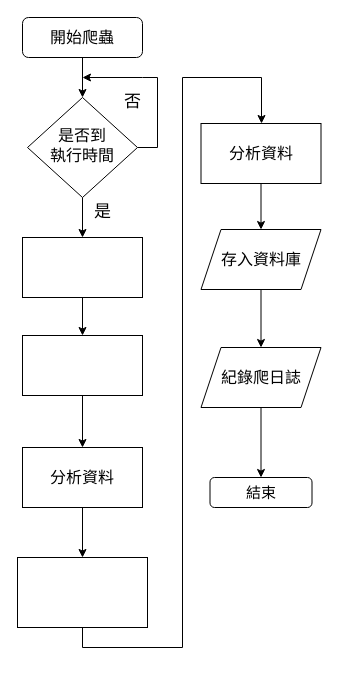
Some shapes in this 339 by 673 pixel diagram are drawn without their labels. The shapes that lost their labels are listed below. From the top down, each one's box as (x1, y1, x2, y2) in pixels, then its label:
(22, 236, 142, 298): 至資料庫獲取 爬蟲預設參數
(22, 334, 142, 396): 多線程的 爬蟲執行
(16, 556, 148, 628): 依據分析資料進行細部資料的爬取，如:學歷和技能等
